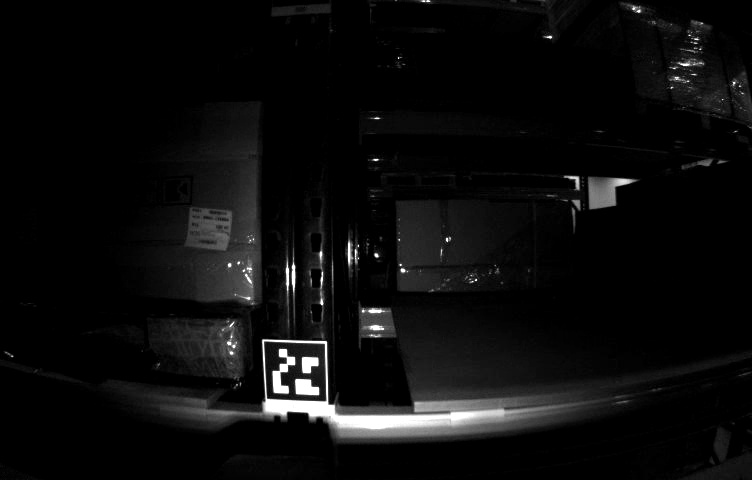True Barcode: (189, 205, 227, 251)
